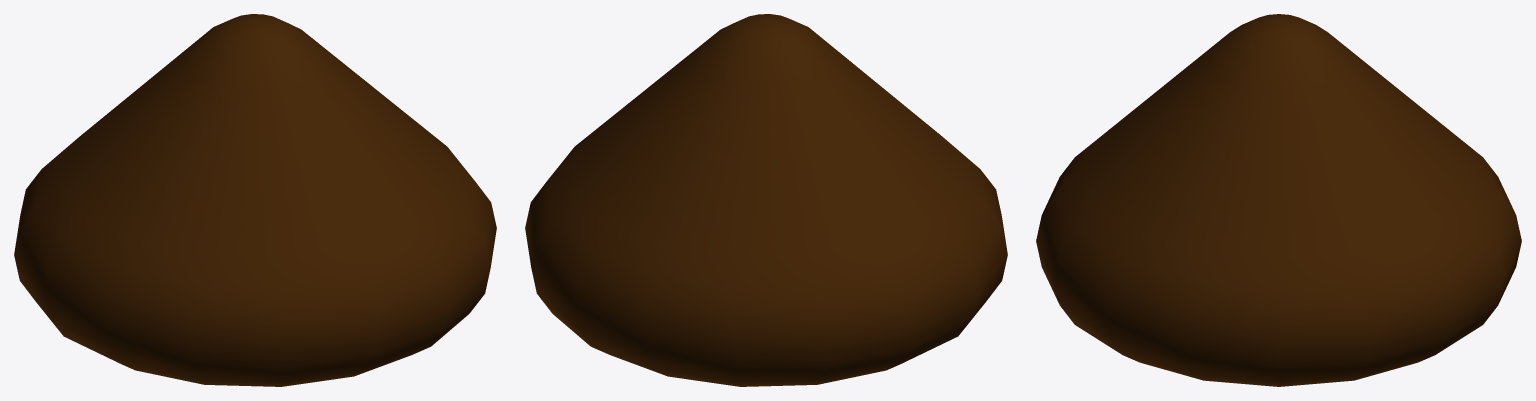
The model's file is LastLuna_Model_Item_Soil.fbx.
3 views of the same model, side by side, from view 1: azimuth 30°, elevation 25°; view 2: azimuth 150°, elevation 25°; view 3: azimuth 270°, elevation 25° (orthographic).
Visible parts, largest first — view 1: Soil001; view 2: Soil001; view 3: Soil001.
Part boxes in pixels (x1,y1,x2,y2): Soil001: (14, 14, 496, 386); Soil001: (525, 14, 1007, 386); Soil001: (1036, 14, 1521, 386).
Bounding box in the file's own units: 64.85 × 42.42 × 64.85.
